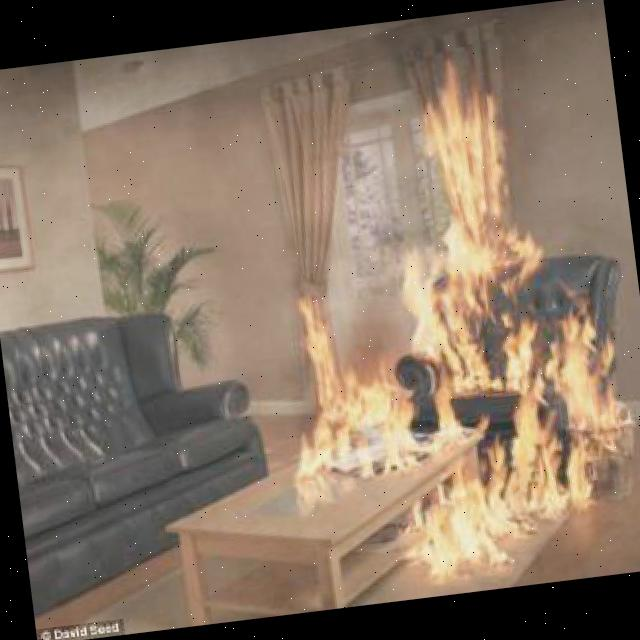fire: (262, 218, 640, 604), (396, 44, 526, 235)
